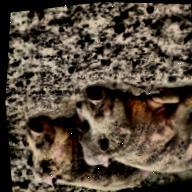boar: (67, 75, 192, 184), (19, 110, 158, 192)
